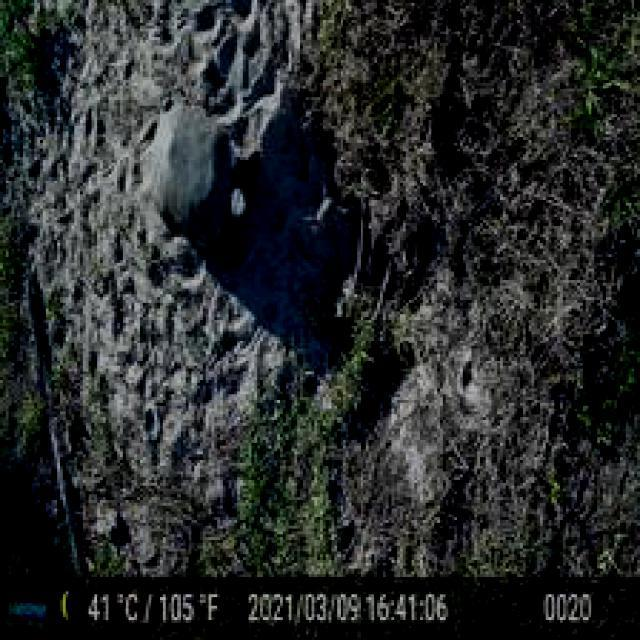tortoise: (132, 94, 255, 248)
